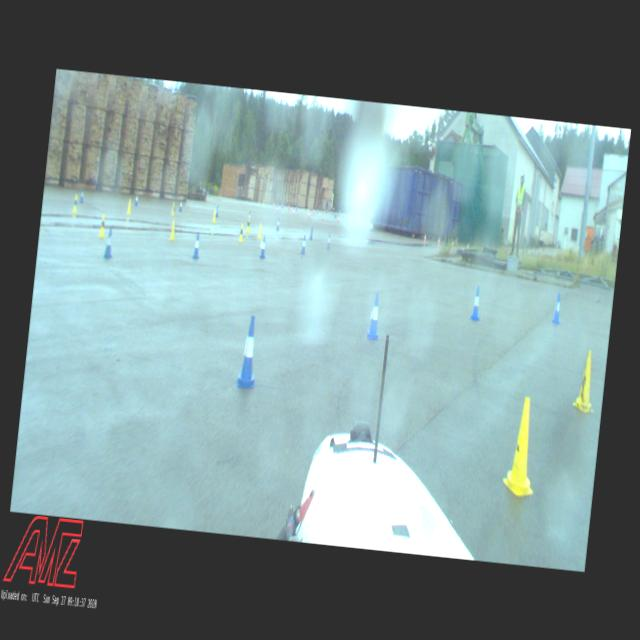blue_cone: (236, 315, 262, 387), (365, 292, 383, 340), (470, 285, 482, 320), (551, 292, 562, 324), (104, 228, 115, 258), (192, 233, 200, 258), (259, 235, 267, 258), (300, 236, 306, 253), (326, 232, 332, 248), (79, 188, 84, 202), (309, 226, 313, 239), (134, 194, 138, 206), (276, 218, 280, 230), (215, 205, 219, 217), (178, 200, 182, 211)
orange_cone: (437, 237, 440, 246), (423, 234, 426, 242), (451, 240, 454, 248)
yellow_cone: (501, 396, 543, 496), (572, 349, 598, 412), (98, 213, 106, 237), (169, 219, 176, 239), (238, 223, 245, 241), (72, 194, 78, 212), (126, 198, 132, 214), (257, 222, 262, 238), (170, 202, 176, 215), (246, 217, 250, 232), (212, 209, 216, 222)
